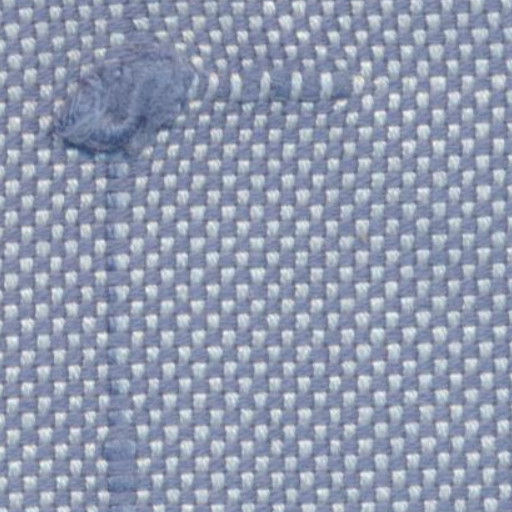MianQiu: (50, 28, 200, 178)
